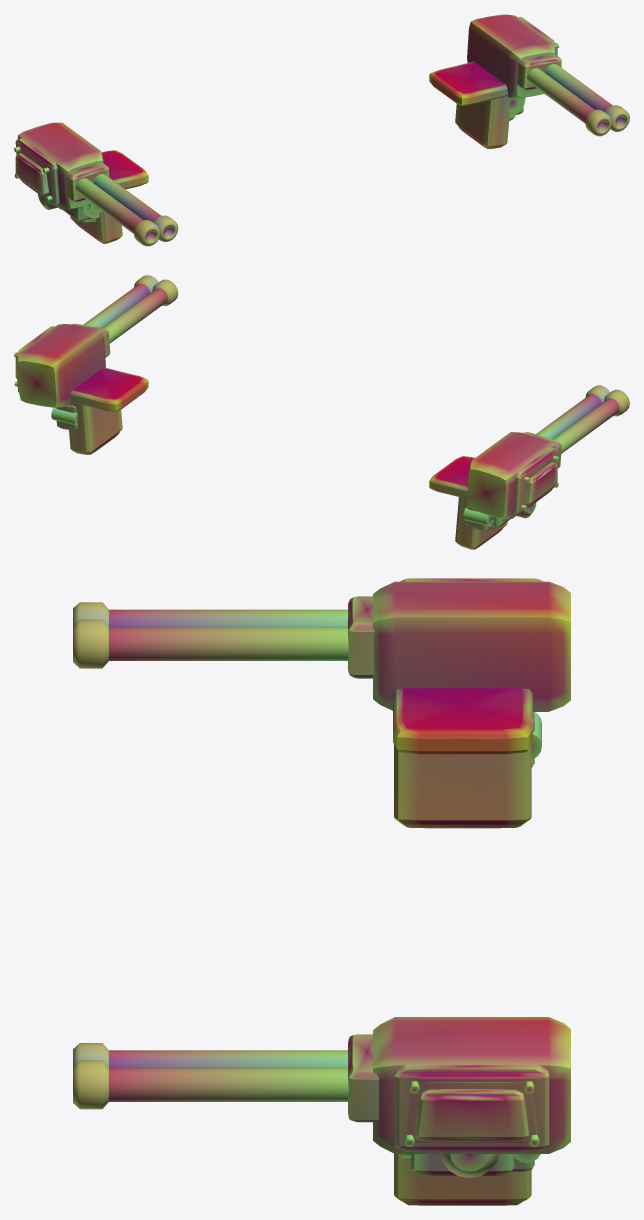
The model's file is llm_gen_shoulder_pods_097_6d6eb9.glb.
3 views of the same model, one above another, from view 1: azimuth 30°, elevation 25°; view 2: azimuth 150°, elevation 25°; view 3: azimuth 270°, elevation 25° (orthographic). The views are drawn at different scales.
Visible parts, largest first — view 1: adapter_shoulder_yoke_r, cannon_cradle_1_wing_white_r, cannon_cradle_1_wing_white_l, adapter_shoulder_yoke_l, beam_barrel_in_3_barrel_metal_r, beam_barrel_out_4_barrel_metal_l, cannon_side_shroud_blue_8_cobalt_anodized_l, beam_barrel_in_3_barrel_metal_l, beam_barrel_out_4_barrel_metal_r, adapter_sub_heatsink_bezel_dark_7_adapter_dark_l, adapter_sub_mantlet_dark_2_adapter_dark_l, adapter_sub_mantlet_dark_2_adapter_dark_r (+4 smaller); view 2: cannon_cradle_1_wing_white_r, adapter_shoulder_yoke_r, cannon_cradle_1_wing_white_l, adapter_shoulder_yoke_l, beam_barrel_out_4_barrel_metal_l, beam_barrel_in_3_barrel_metal_r, cannon_side_shroud_blue_8_cobalt_anodized_l, beam_barrel_in_3_barrel_metal_l, beam_barrel_out_4_barrel_metal_r, adapter_sub_heatsink_bezel_dark_7_adapter_dark_l; view 3: cannon_cradle_1_wing_white_l, adapter_shoulder_yoke_l, cannon_cradle_1_wing_white_r, beam_barrel_out_4_barrel_metal_r, beam_barrel_in_3_barrel_metal_l, cannon_side_shroud_blue_8_cobalt_anodized_r, adapter_sub_heatsink_bezel_dark_7_adapter_dark_r, adapter_shoulder_yoke_r, beam_barrel_in_3_barrel_metal_r, beam_barrel_out_4_barrel_metal_l, adapter_sub_mantlet_dark_2_adapter_dark_r, adapter_sub_mantlet_dark_2_adapter_dark_l (+3 smaller).
Part boxes in pixels (<box>): adapter_shoulder_yoke_r: <box>429,61,525,148</box>; cannon_cradle_1_wing_white_r: <box>467,14,555,98</box>; cannon_cradle_1_wing_white_l: <box>17,122,103,209</box>; adapter_shoulder_yoke_l: <box>62,150,148,243</box>; beam_barrel_in_3_barrel_metal_r: <box>527,68,594,123</box>; beam_barrel_out_4_barrel_metal_l: <box>75,178,143,233</box>; cannon_side_shroud_blue_8_cobalt_anodized_l: <box>14,146,52,201</box>; beam_barrel_in_3_barrel_metal_l: <box>93,174,161,222</box>; beam_barrel_out_4_barrel_metal_r: <box>545,64,612,111</box>; adapter_sub_heatsink_bezel_dark_7_adapter_dark_l: <box>15,138,59,205</box>; adapter_sub_mantlet_dark_2_adapter_dark_l: <box>64,162,109,201</box>; adapter_sub_mantlet_dark_2_adapter_dark_r: <box>517,54,561,89</box>; cannon_cradle_1_wing_white_r: <box>17,324,105,407</box>; adapter_shoulder_yoke_r: <box>69,367,148,454</box>; cannon_cradle_1_wing_white_l: <box>467,432,555,518</box>; adapter_shoulder_yoke_l: <box>429,456,510,549</box>; beam_barrel_out_4_barrel_metal_l: <box>552,398,619,453</box>; beam_barrel_in_3_barrel_metal_r: <box>103,288,167,343</box>; cannon_side_shroud_blue_8_cobalt_anodized_l: <box>520,455,559,510</box>; beam_barrel_in_3_barrel_metal_l: <box>536,394,601,439</box>; beam_barrel_out_4_barrel_metal_r: <box>83,284,149,327</box>; adapter_sub_heatsink_bezel_dark_7_adapter_dark_l: <box>514,447,557,514</box>; cannon_cradle_1_wing_white_l: <box>373,581,570,711</box>; adapter_shoulder_yoke_l: <box>393,688,532,828</box>; cannon_cradle_1_wing_white_r: <box>373,1017,570,1153</box>; beam_barrel_out_4_barrel_metal_r: <box>109,1067,348,1101</box>; beam_barrel_in_3_barrel_metal_l: <box>109,627,348,660</box>; cannon_side_shroud_blue_8_cobalt_anodized_r: <box>404,1081,539,1146</box>; adapter_sub_heatsink_bezel_dark_7_adapter_dark_r: <box>394,1065,549,1151</box>; adapter_shoulder_yoke_r: <box>394,1153,531,1205</box>; beam_barrel_in_3_barrel_metal_r: <box>109,1050,347,1067</box>; beam_barrel_out_4_barrel_metal_l: <box>109,609,347,626</box>; adapter_sub_mantlet_dark_2_adapter_dark_r: <box>348,1034,379,1122</box>; adapter_sub_mantlet_dark_2_adapter_dark_l: <box>348,596,374,678</box>.
Size of the model in its own units: 111 by 20.12 by 46.37.
